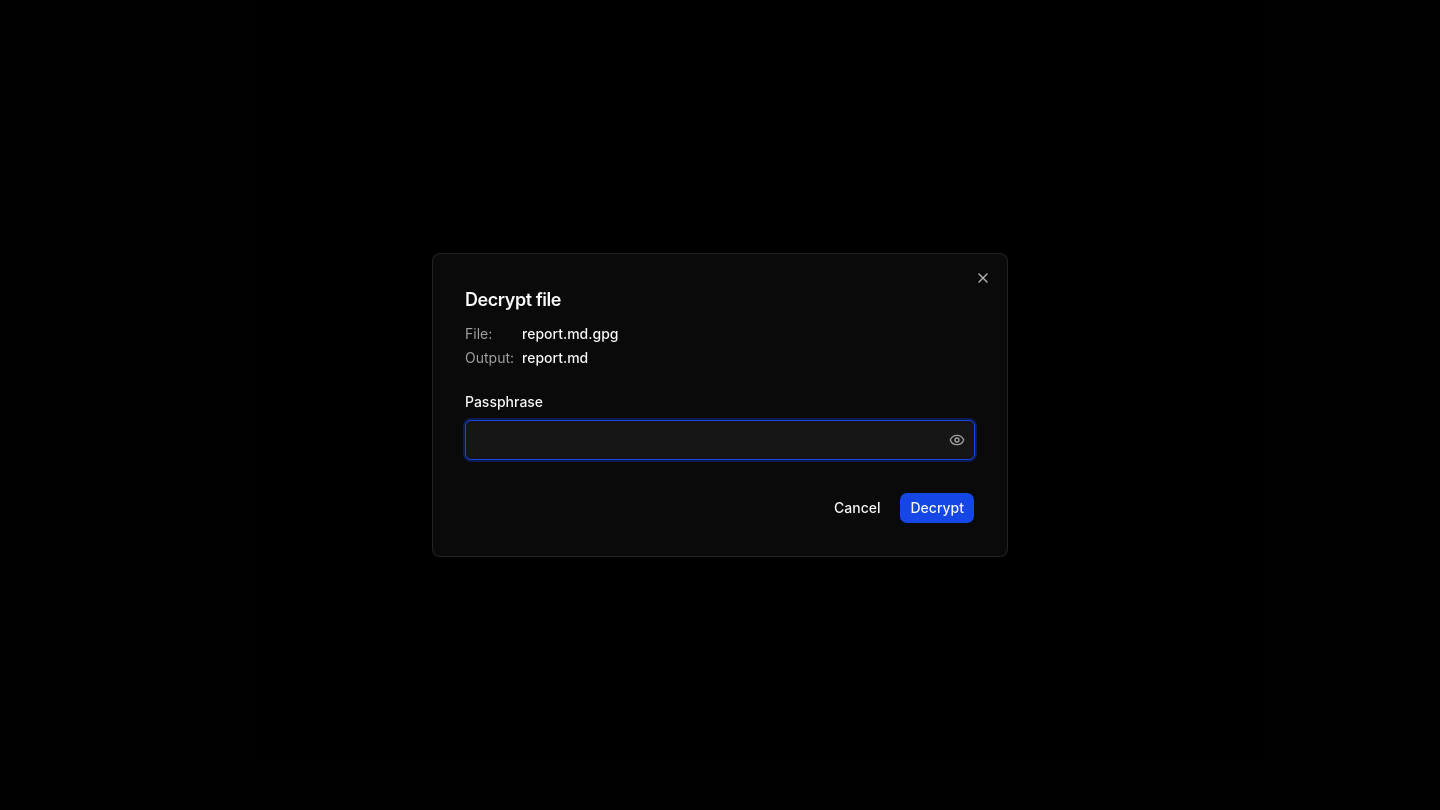
Scenario: DecryptDialog › shows backend error inline without closing when decryption fails
The image size is (1440, 810).
Type "wrongpassword" into the password field labelled "Passphrase". click: x=720, y=440
box: left=465, top=420, right=975, bottom=460
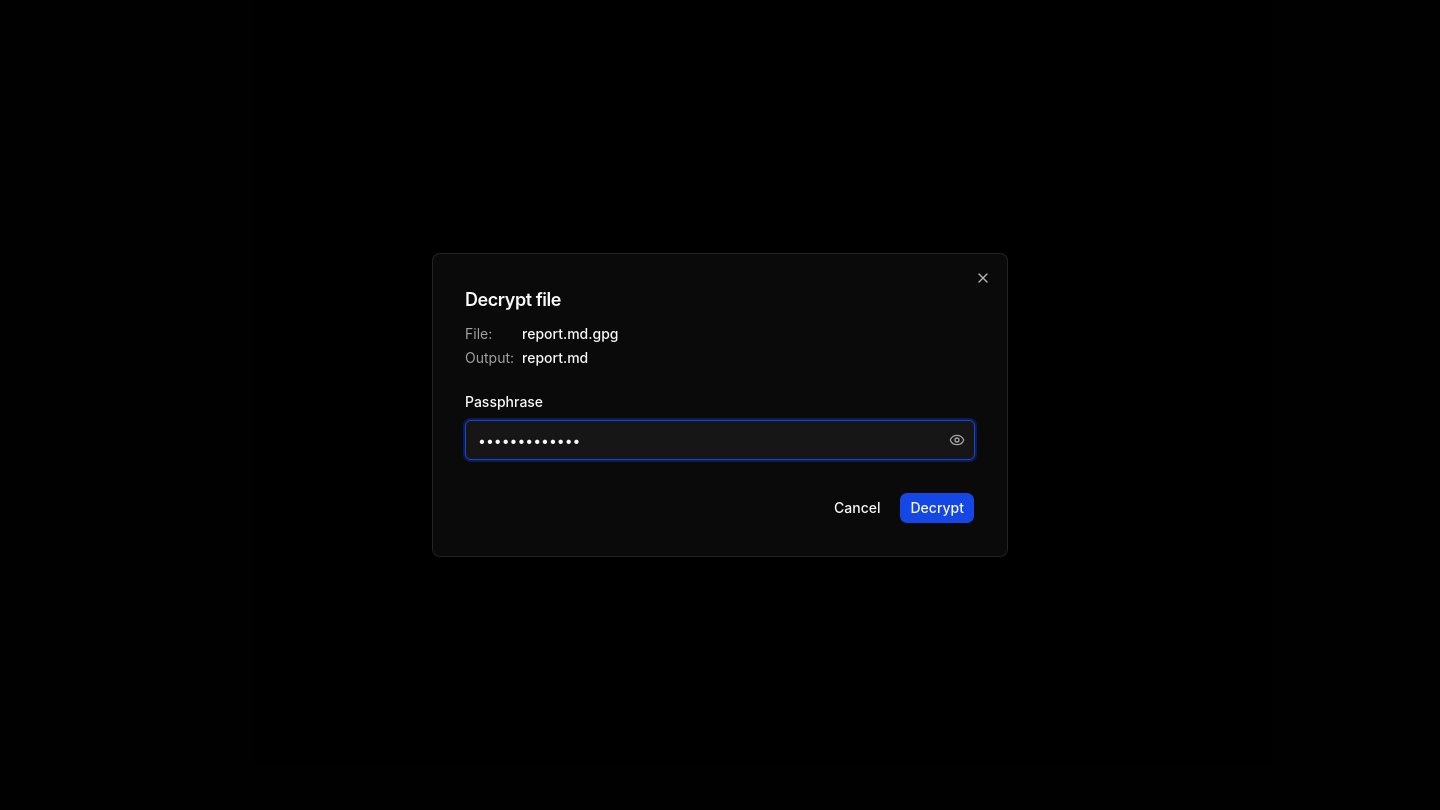
Click the button "Decrypt". click: x=937, y=508
box: left=900, top=492, right=975, bottom=524
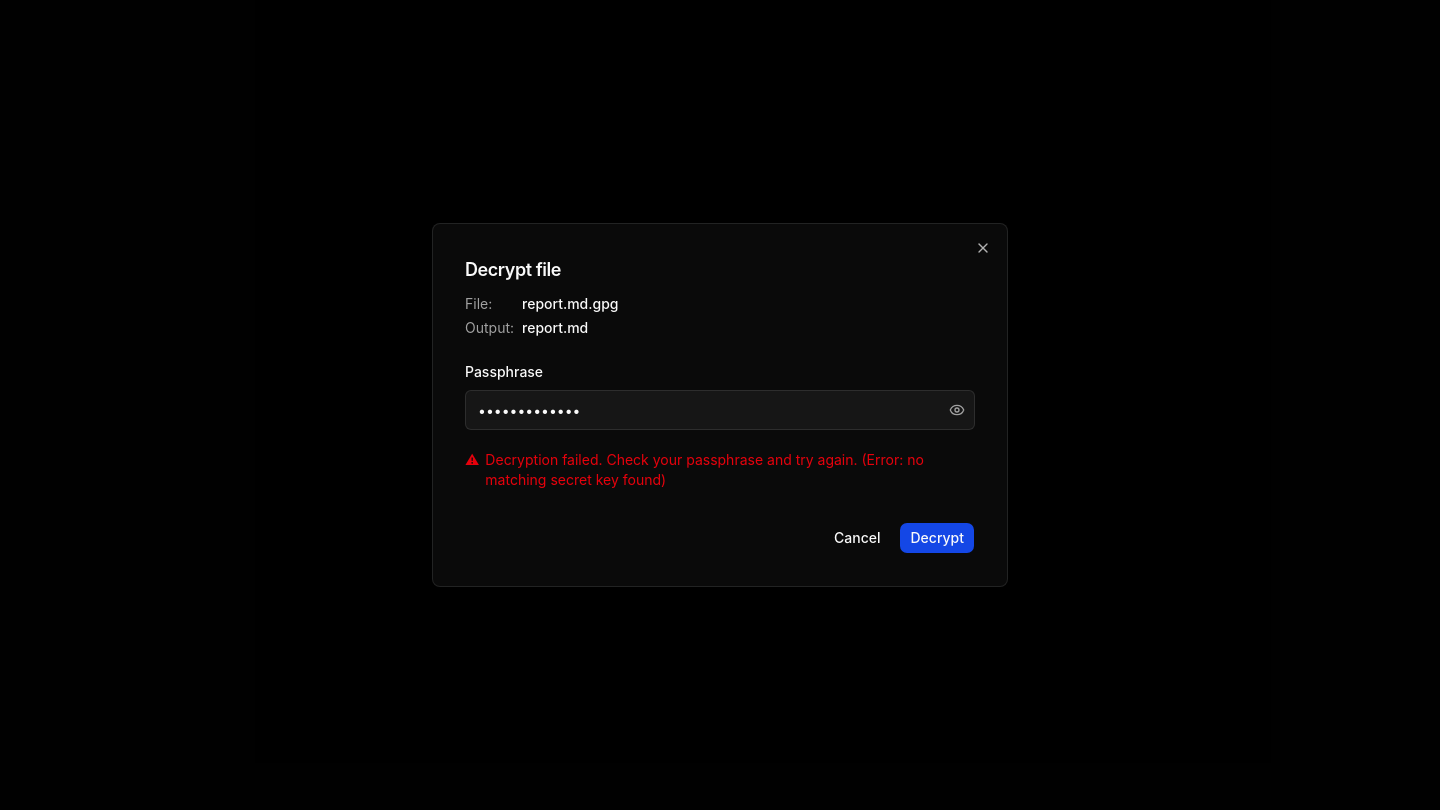
Result: the message shows "Decryption failed. Check your passphrase and try again." at left=485, top=451, right=924, bottom=488
Result: the message shows "no matching secret key found" at left=485, top=451, right=924, bottom=488
